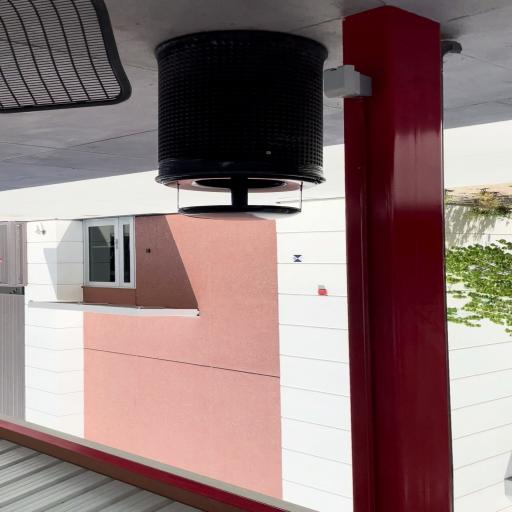target6: (292, 255, 302, 262)
